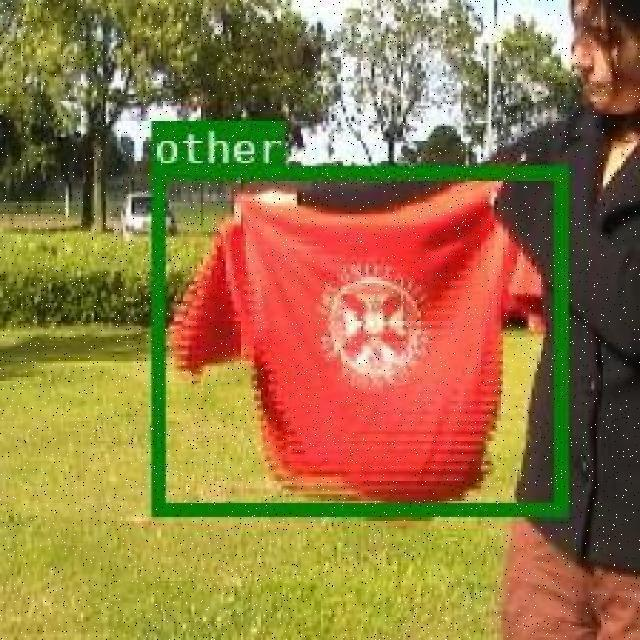Smoke: (150, 165, 566, 512)
